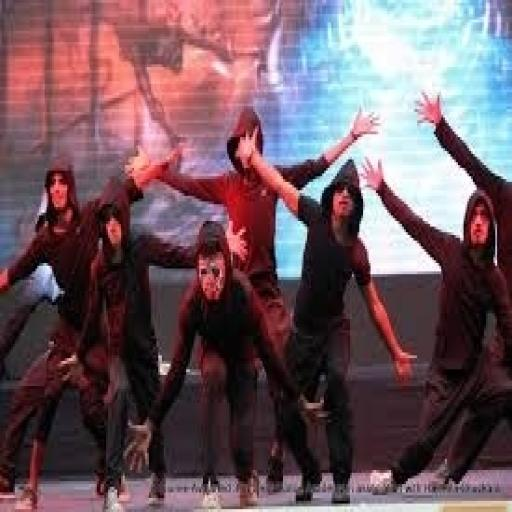dancing: (25, 12, 512, 508)
